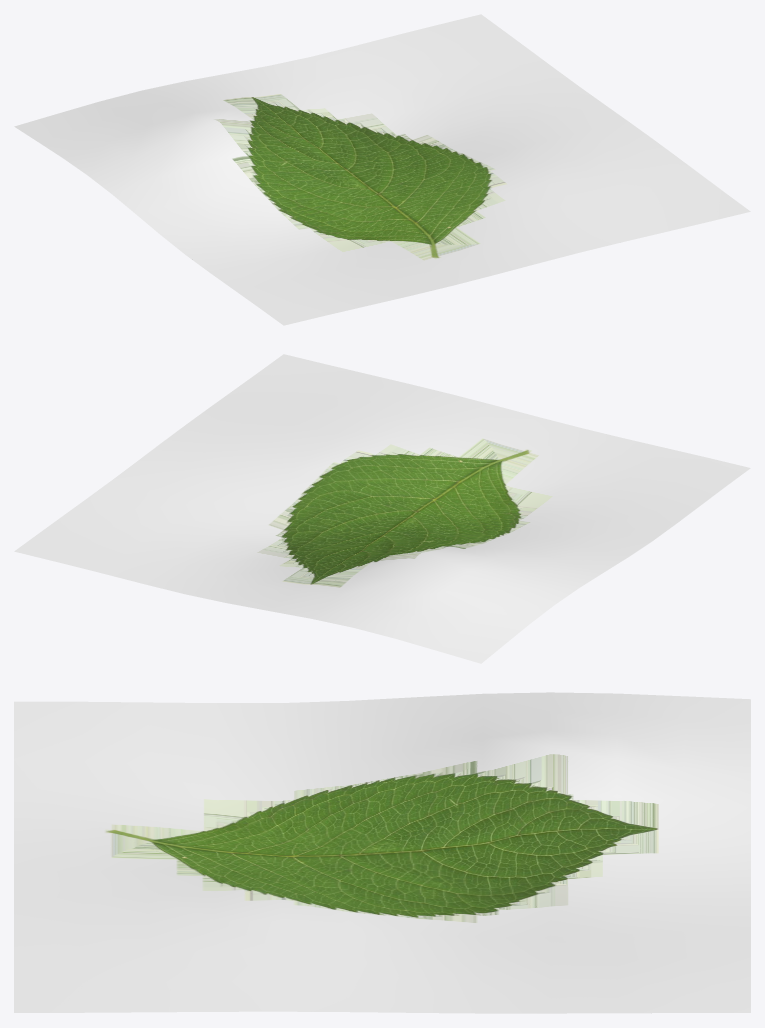
File: leaves.fbx
The picture shows the model from 3 angles, top to bottom: view 1: azimuth 30°, elevation 25°; view 2: azimuth 150°, elevation 25°; view 3: azimuth 270°, elevation 25°; orthographic projection. The views are drawn at different scales.
Visible parts, largest first — view 1: Plane; view 2: Plane; view 3: Plane.
Part boxes in pixels (<box>): Plane: <box>14,14,750,325</box>; Plane: <box>14,354,750,663</box>; Plane: <box>14,692,750,1013</box>.
Size of the model in its own units: 200 by 17.95 by 200.
Materials: 1 (1 with a texture image).
